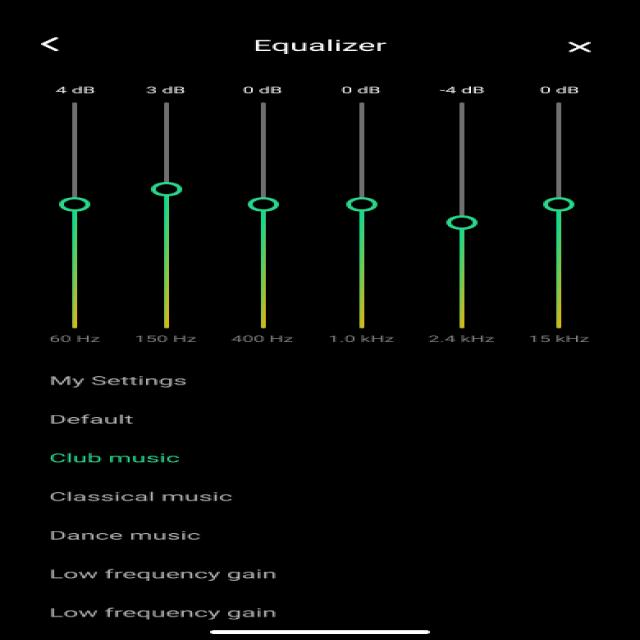icon button: (24, 22, 92, 62), (552, 22, 607, 63)
progress bar: (33, 76, 610, 351)
row: (27, 443, 604, 479), (27, 563, 612, 598), (27, 524, 609, 556), (27, 602, 609, 634), (27, 367, 604, 399), (24, 486, 606, 516), (27, 408, 601, 438)
text: (237, 31, 418, 57)
